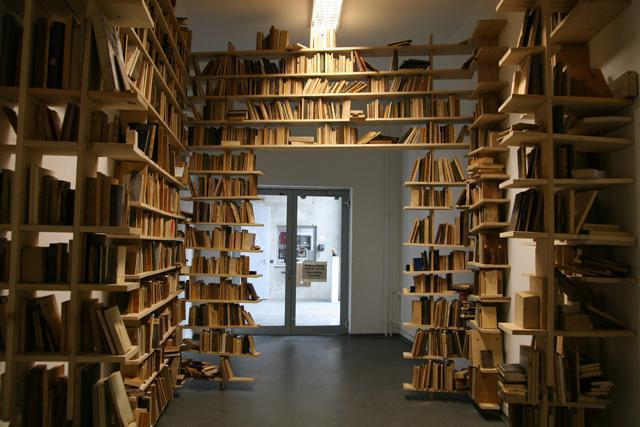Puerta: (239, 193, 347, 329)
